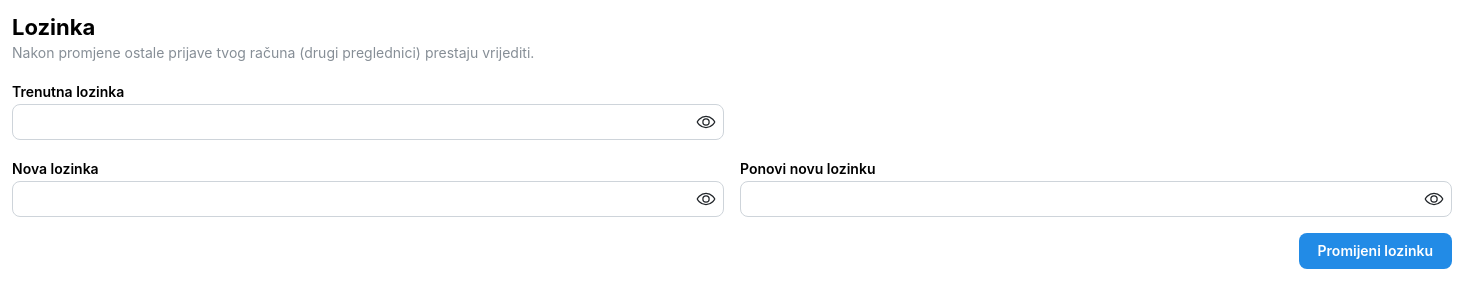
it: PasswordForm › checks the length and that both new passwords match
Type "stara-lozinka" into the password field labelled "Trenutna lozinka" at (368, 122), box [13,105,723,139]
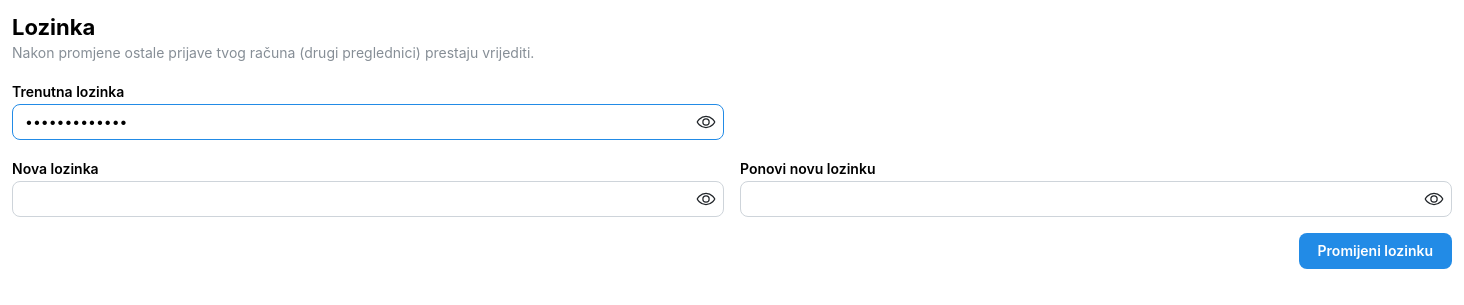
Type "kratka" into the password field labelled "Nova lozinka" at (368, 199), box [13,182,723,216]
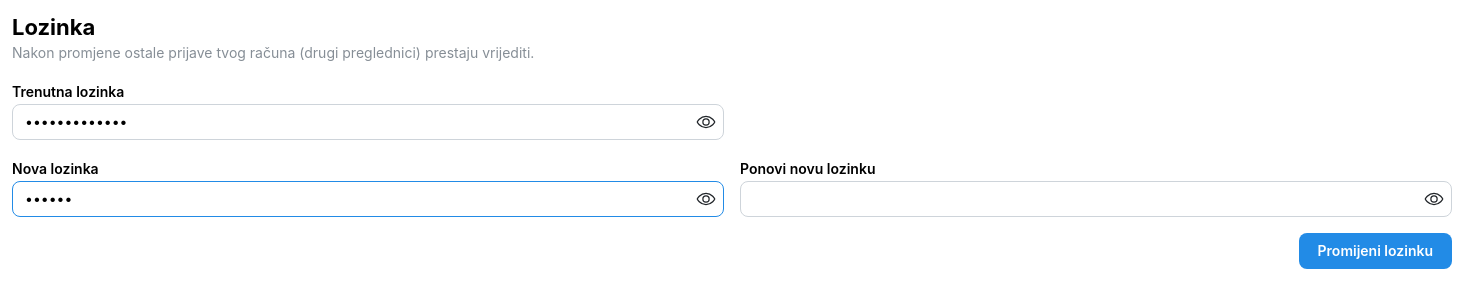
Type "druga" into the password field labelled "Ponovi novu lozinku" at (1096, 199), box [741,182,1451,216]
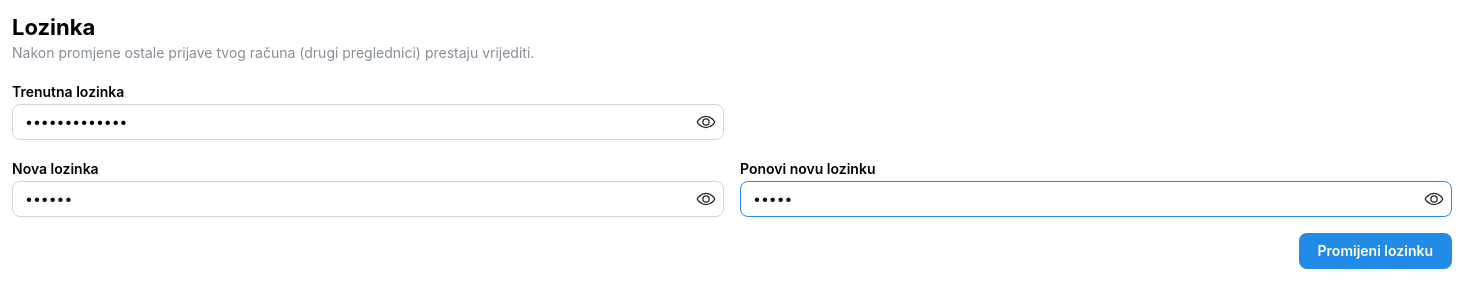
Click the button "Promijeni lozinku" at (1375, 251), box [1299,233,1452,269]
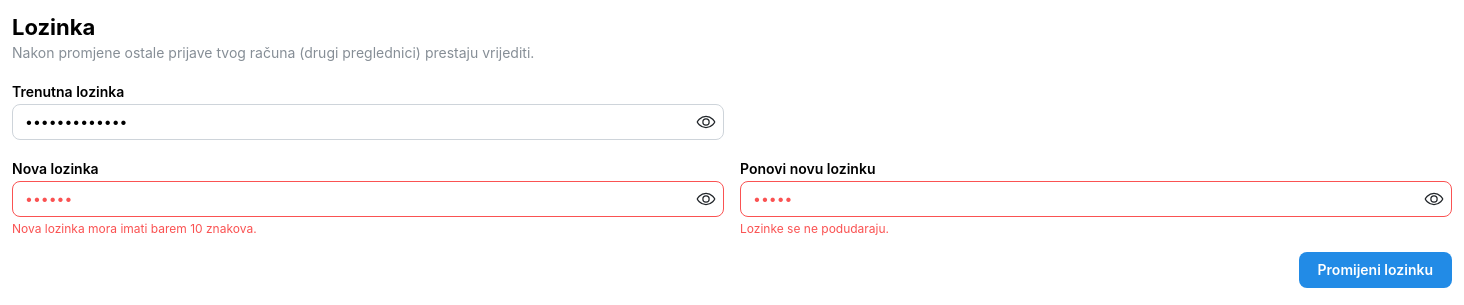
Now the text "Nova lozinka mora imati barem 10 znakova." is shown, box [12,221,257,236]
Now the text "Lozinke se ne podudaraju." is shown, box [740,221,889,236]
